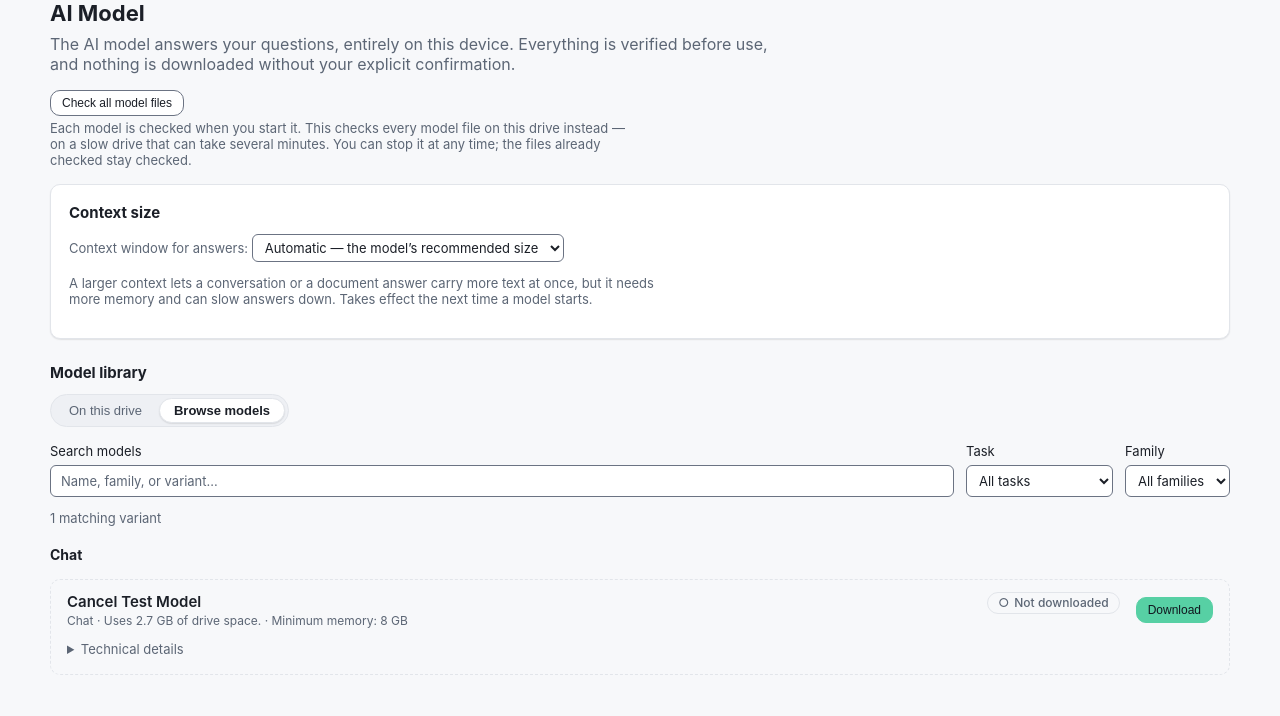
Test: ModelsScreen — per-download confirmation (plan §6.1 gate 3) › surfaces a friendly error (no unhandled rejection) when cancelling a download rejects
The width and height of the screenshot is (1280, 716).
Click the button "Download". click: (1174, 610)
box: [1136,597,1213,623]
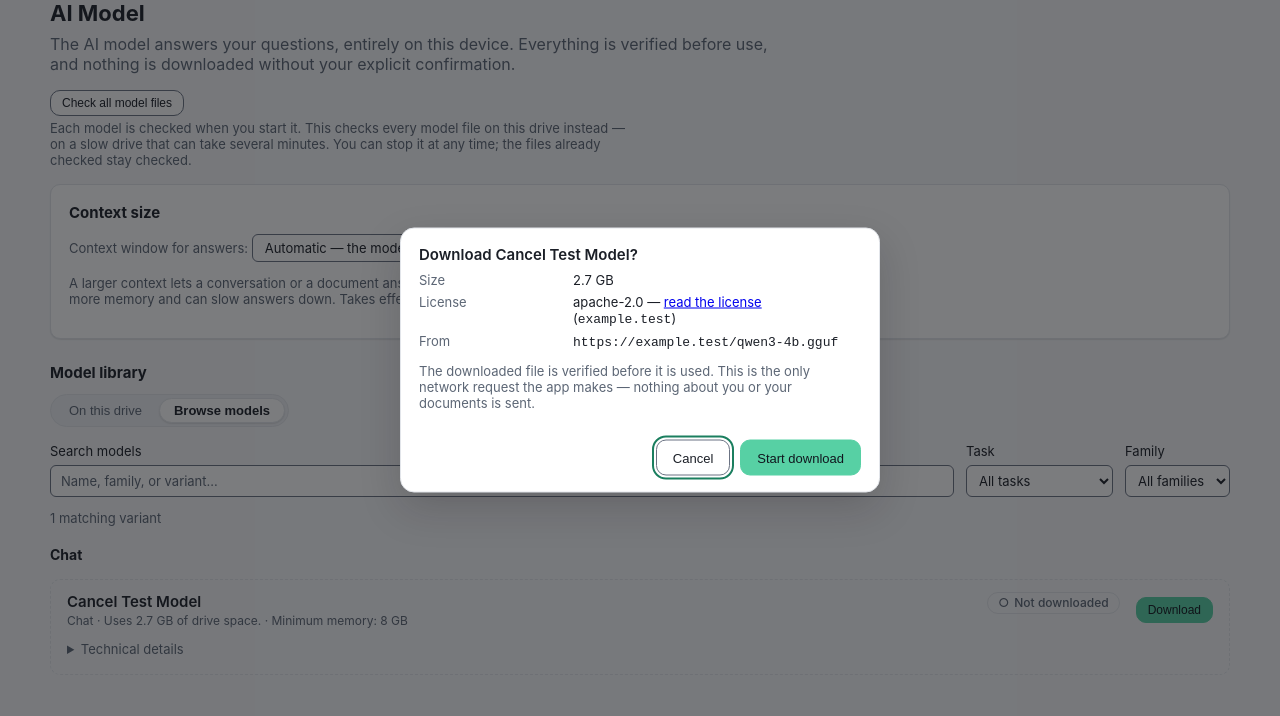
Click the button "Start download". click: (801, 458)
box: [740,440,861,476]
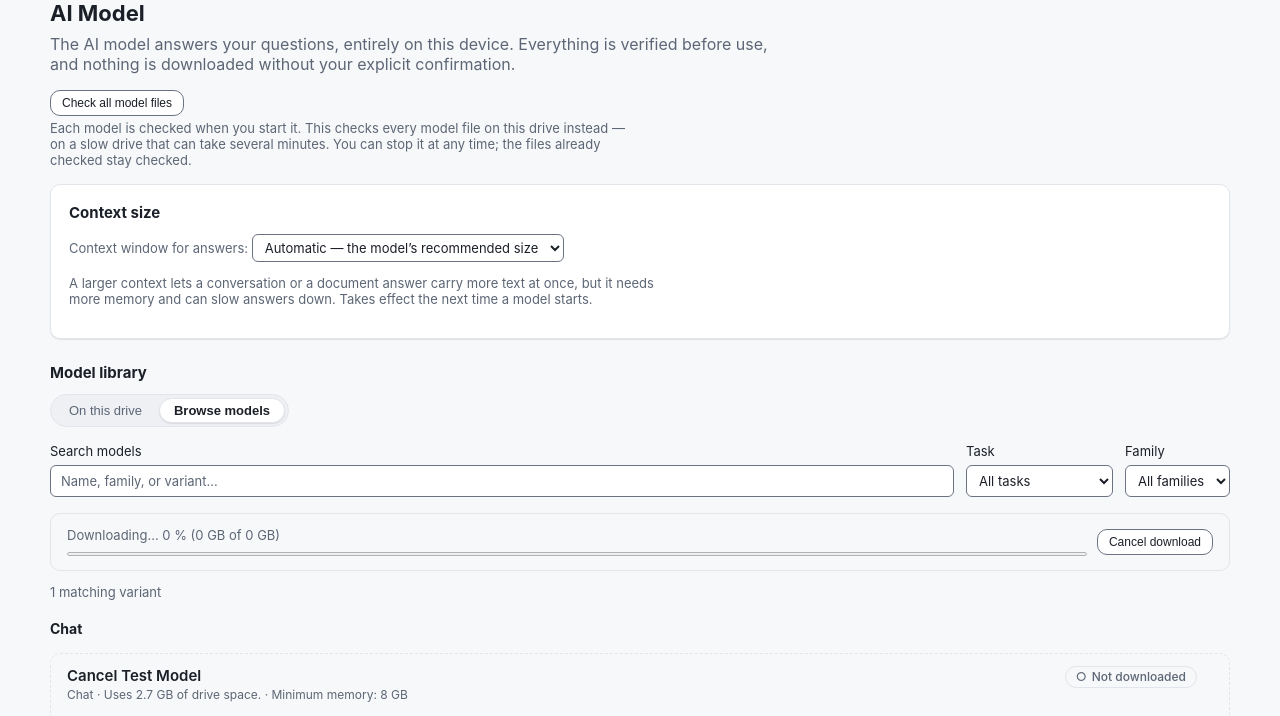
Click the button "Cancel download". click: (1155, 542)
box: [1097,529,1213,555]
(page scrolled)
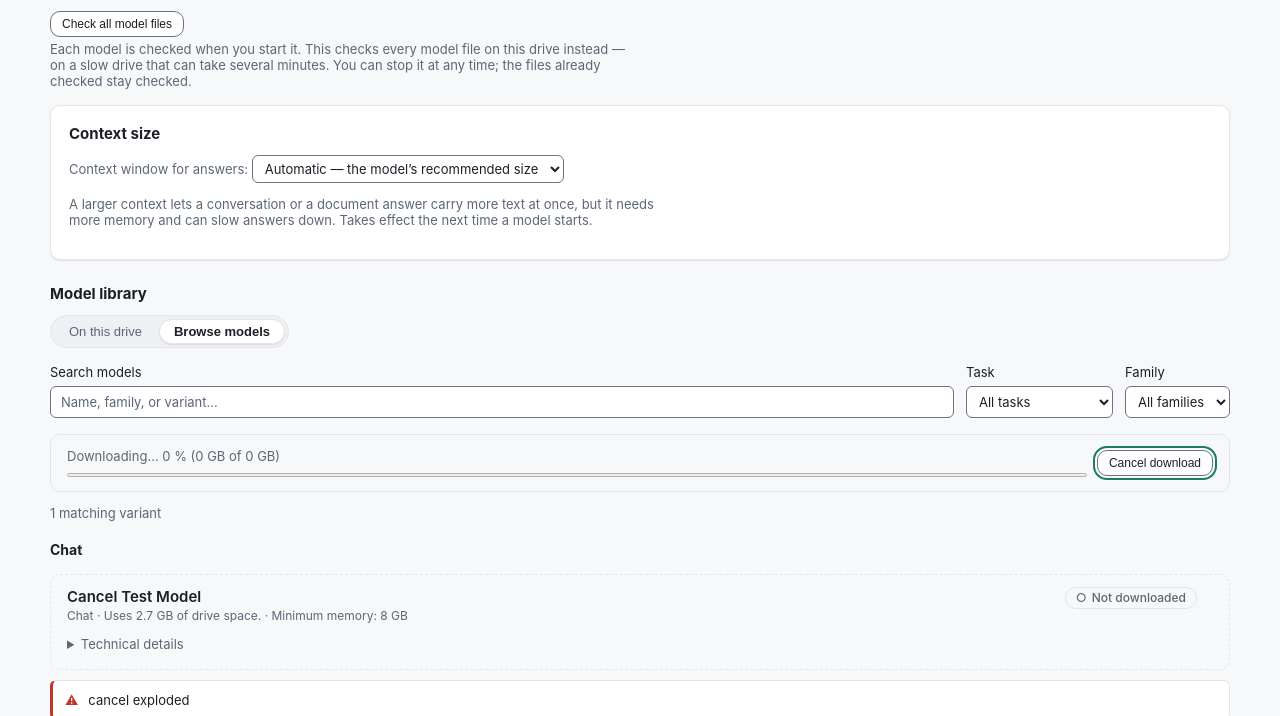
Expected: the text "cancel exploded" is shown, [88,692,189,708]
